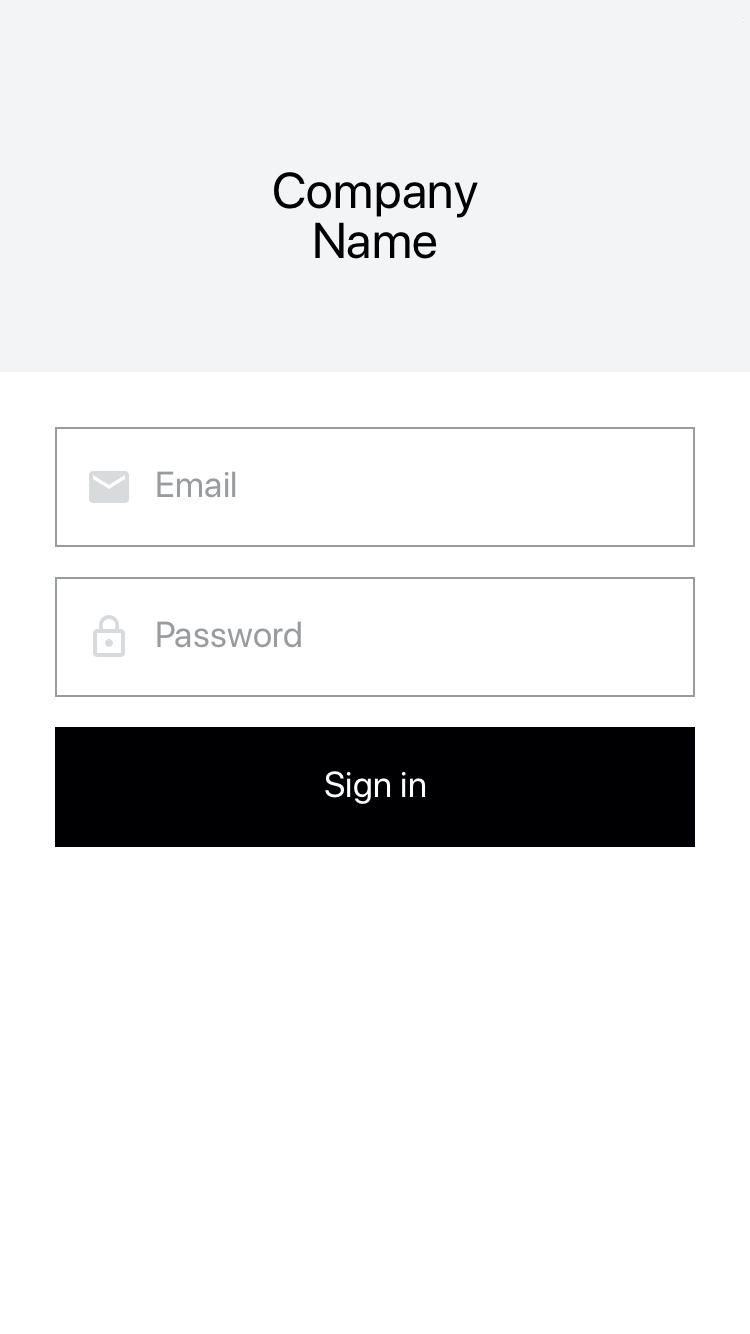EditText: (56, 577, 695, 698), (56, 428, 695, 548)
Icon: (93, 614, 127, 658), (90, 471, 130, 504)
Text: (274, 172, 479, 259), (157, 621, 302, 649), (157, 471, 237, 499)
TextButton: (56, 727, 695, 847)
